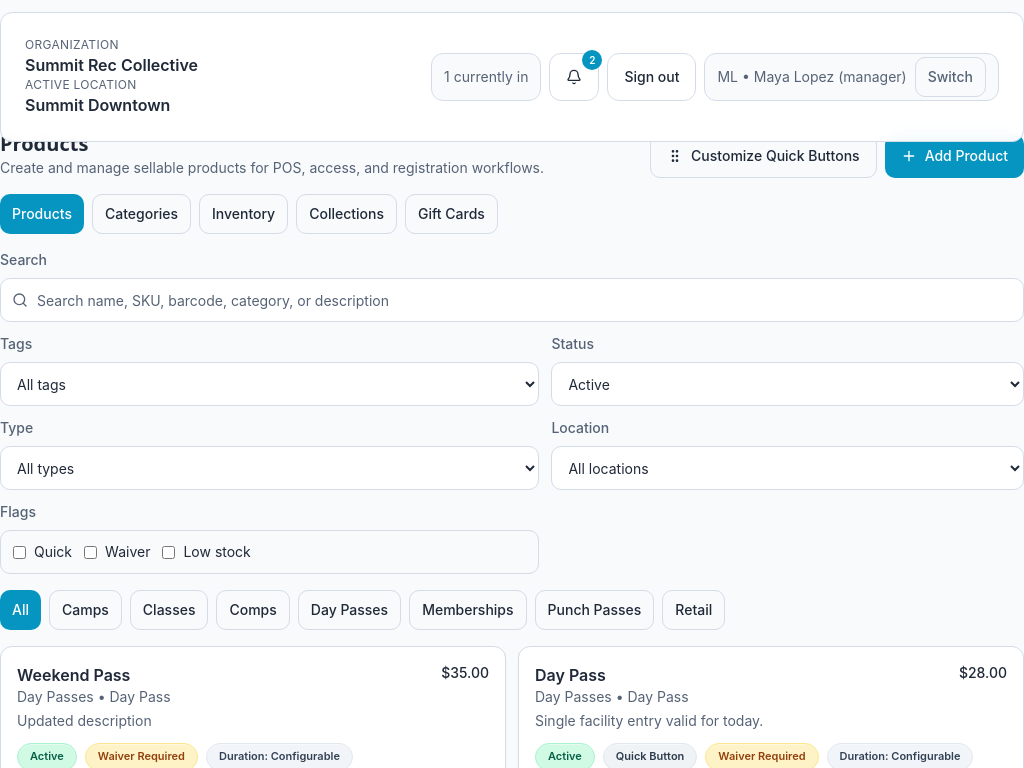
it: Products page › permissions are enforced and validation works
Click the button "Switch" at (950, 77), box [915, 57, 986, 97]
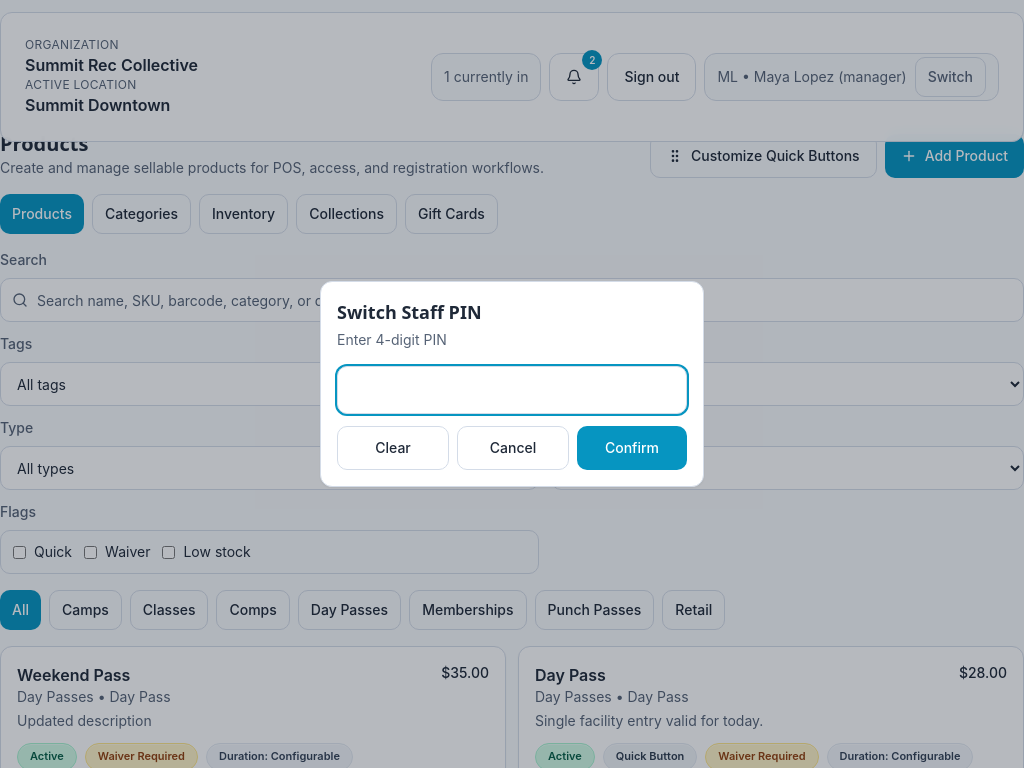
Type "3333" into the password field named "Staff PIN input" at (512, 390), box [337, 366, 687, 414]
Click the button "Confirm" at (632, 448), box [577, 426, 687, 470]
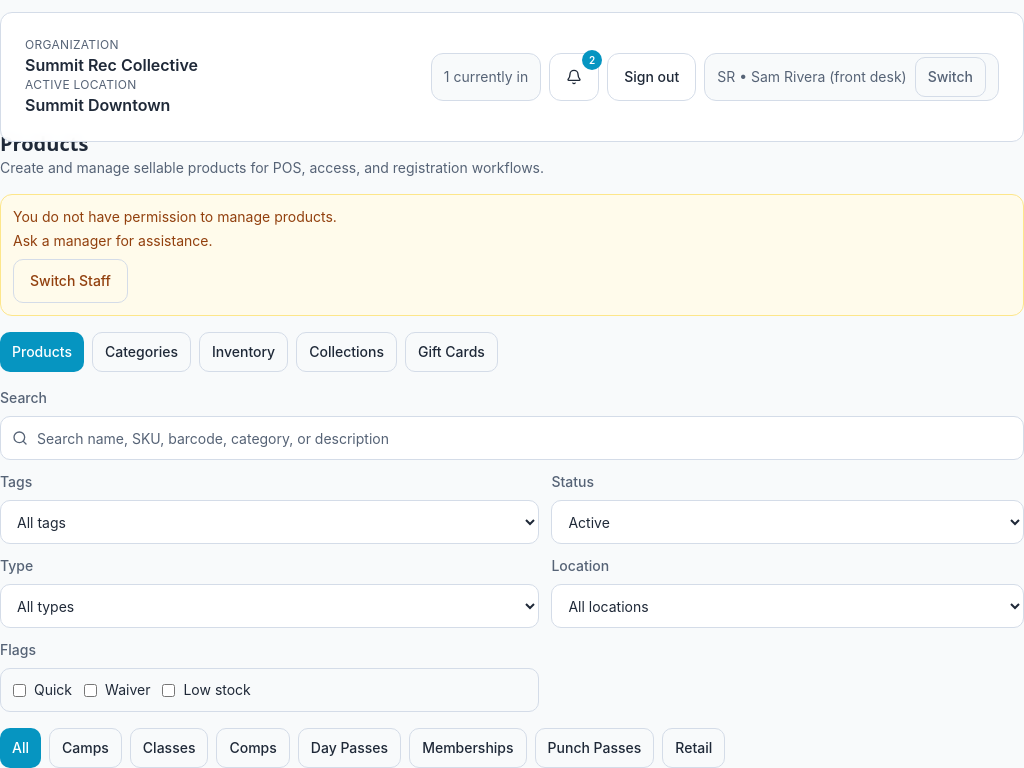
Expected: the text "You do not have permission to manage products." is shown, [13, 208, 337, 225]
Expected: the button "Add Product" is gone
Expected: the button "Customize Quick Buttons" is gone
Click the button "Switch" at (950, 77), box [915, 57, 986, 97]
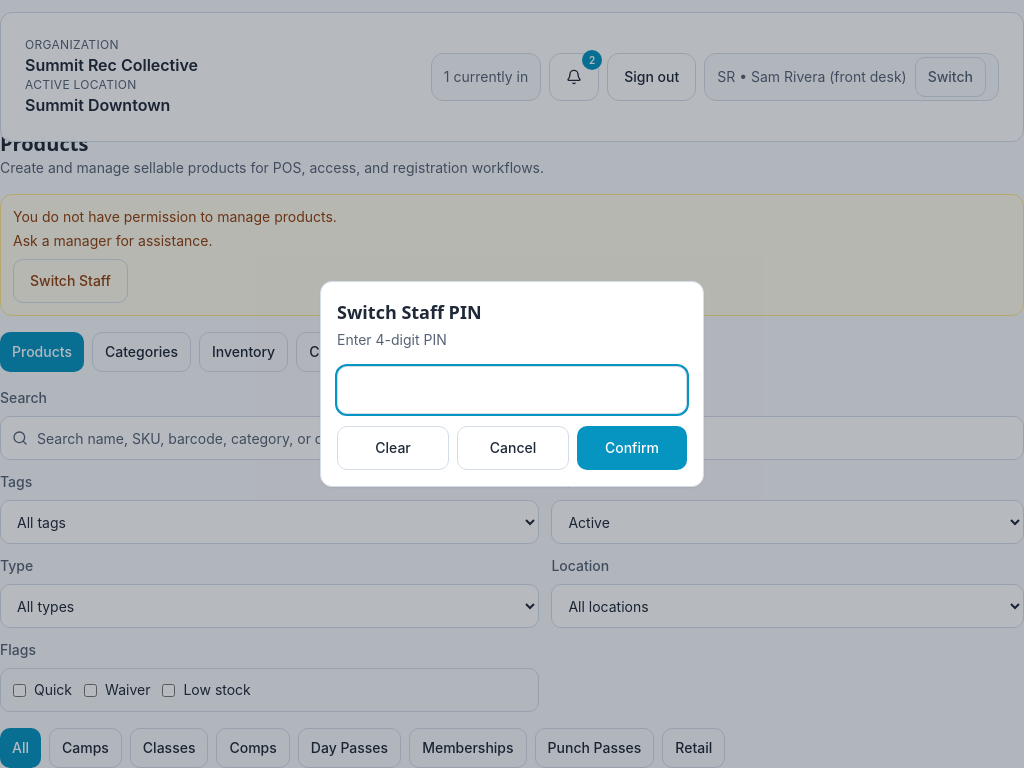
Type "2222" into the password field named "Staff PIN input" at (512, 390), box [337, 366, 687, 414]
Click the button "Confirm" at (632, 448), box [577, 426, 687, 470]
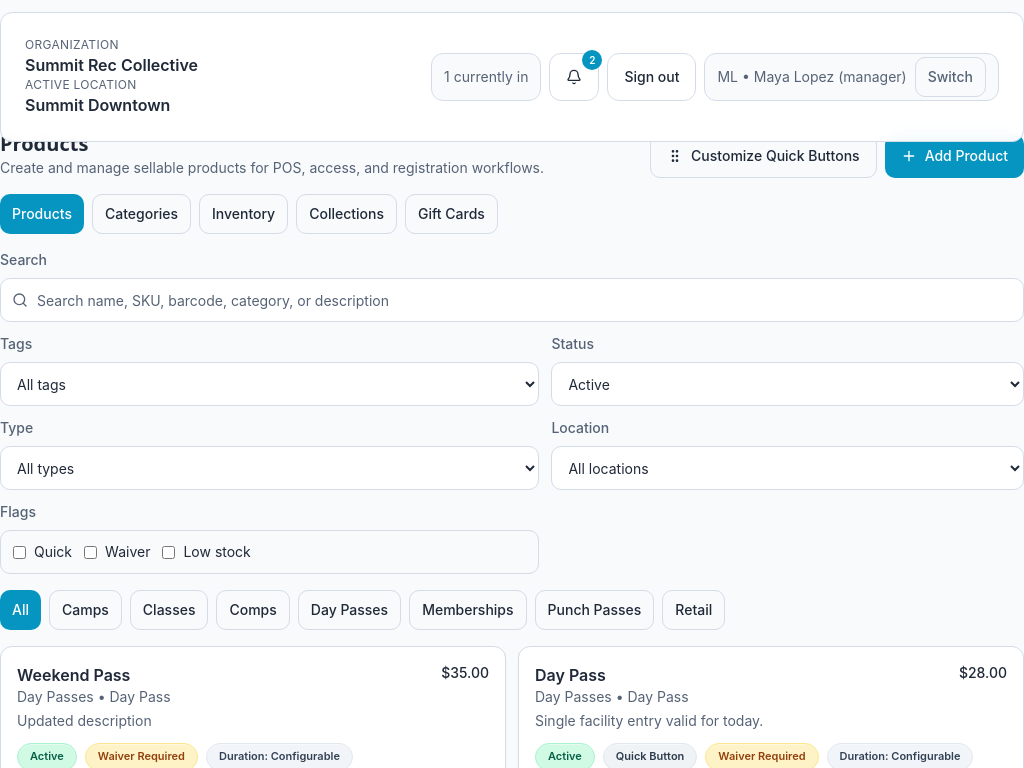
Click the button "Add Product" at (954, 156), box [885, 134, 1023, 178]
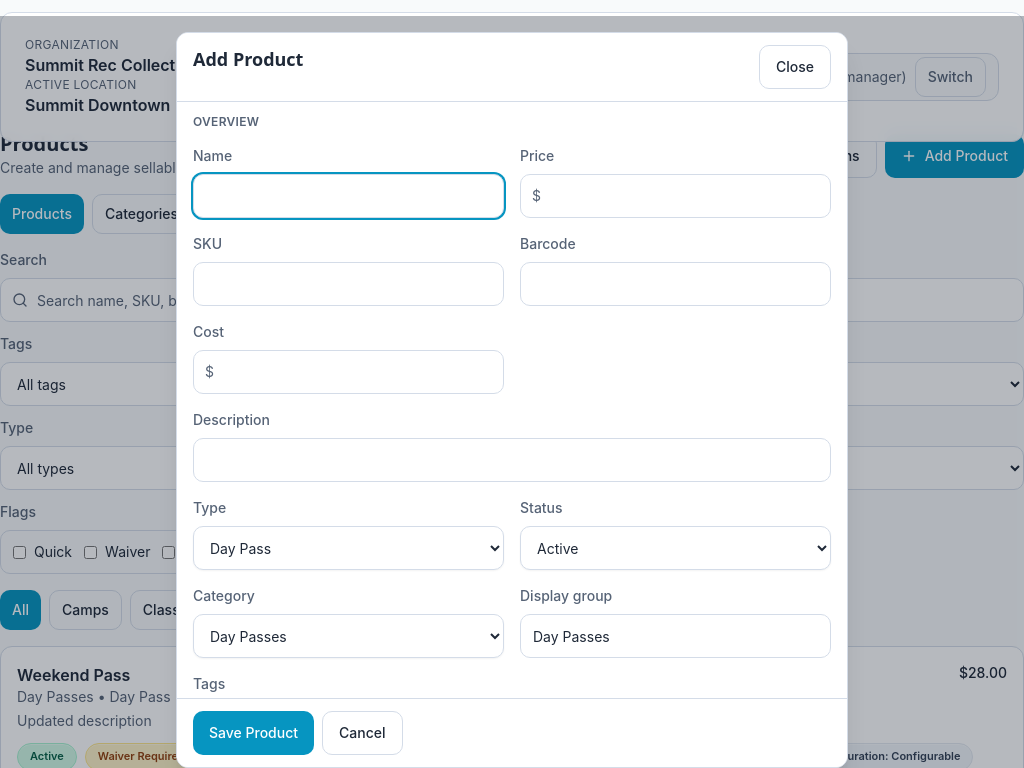
Click the button "Save Product" at (254, 733), box [193, 711, 314, 755]
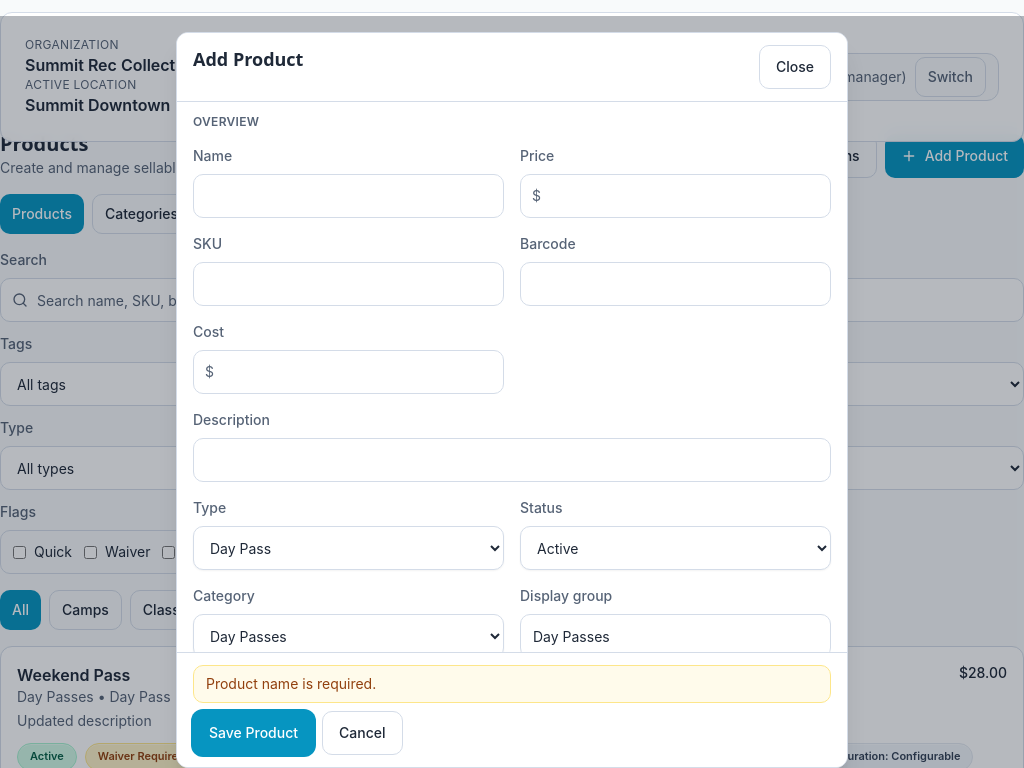
Expected: the message shows "Product name is required", [206, 675, 376, 692]
